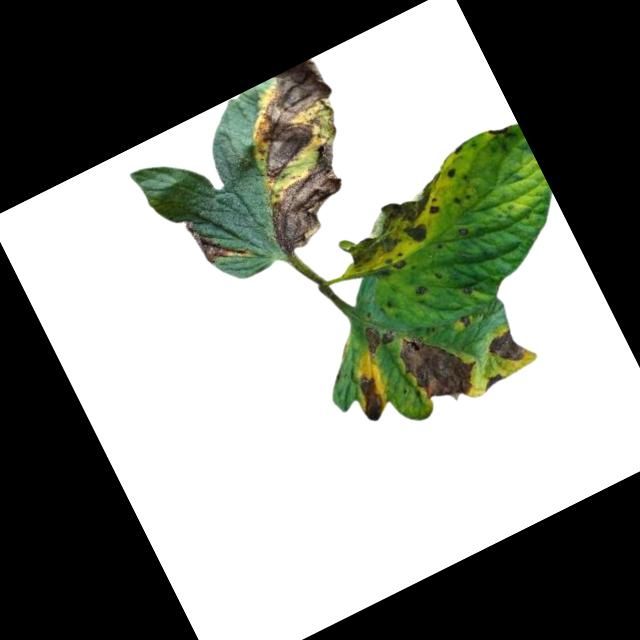Early_blight: (210, 56, 388, 254), (333, 174, 462, 275), (394, 314, 488, 415), (183, 201, 252, 277), (348, 369, 392, 425), (481, 325, 527, 372), (358, 316, 399, 354), (479, 370, 507, 391), (487, 120, 511, 141), (390, 255, 408, 273), (458, 310, 473, 327), (442, 165, 458, 180), (411, 281, 427, 296), (455, 224, 470, 237)
